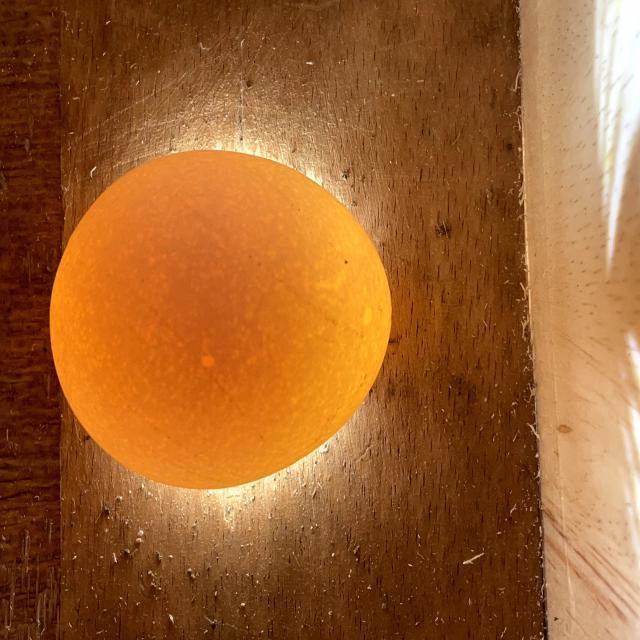infertile: (50, 150, 391, 488)
